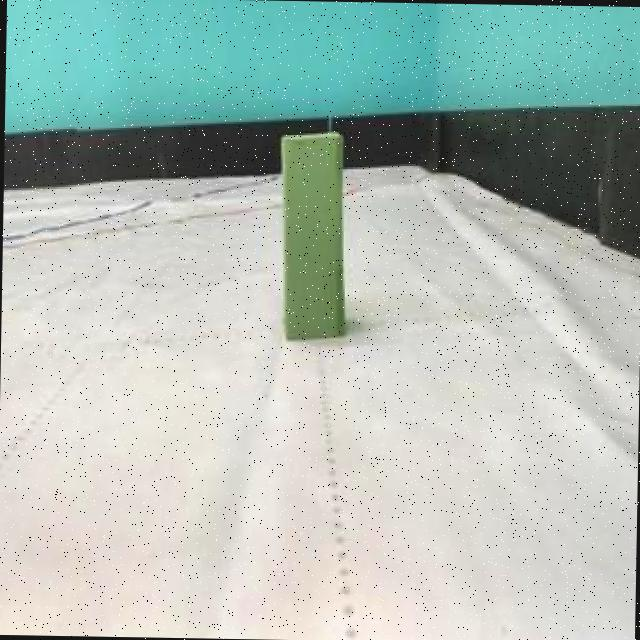greenbox: (274, 127, 348, 340)
